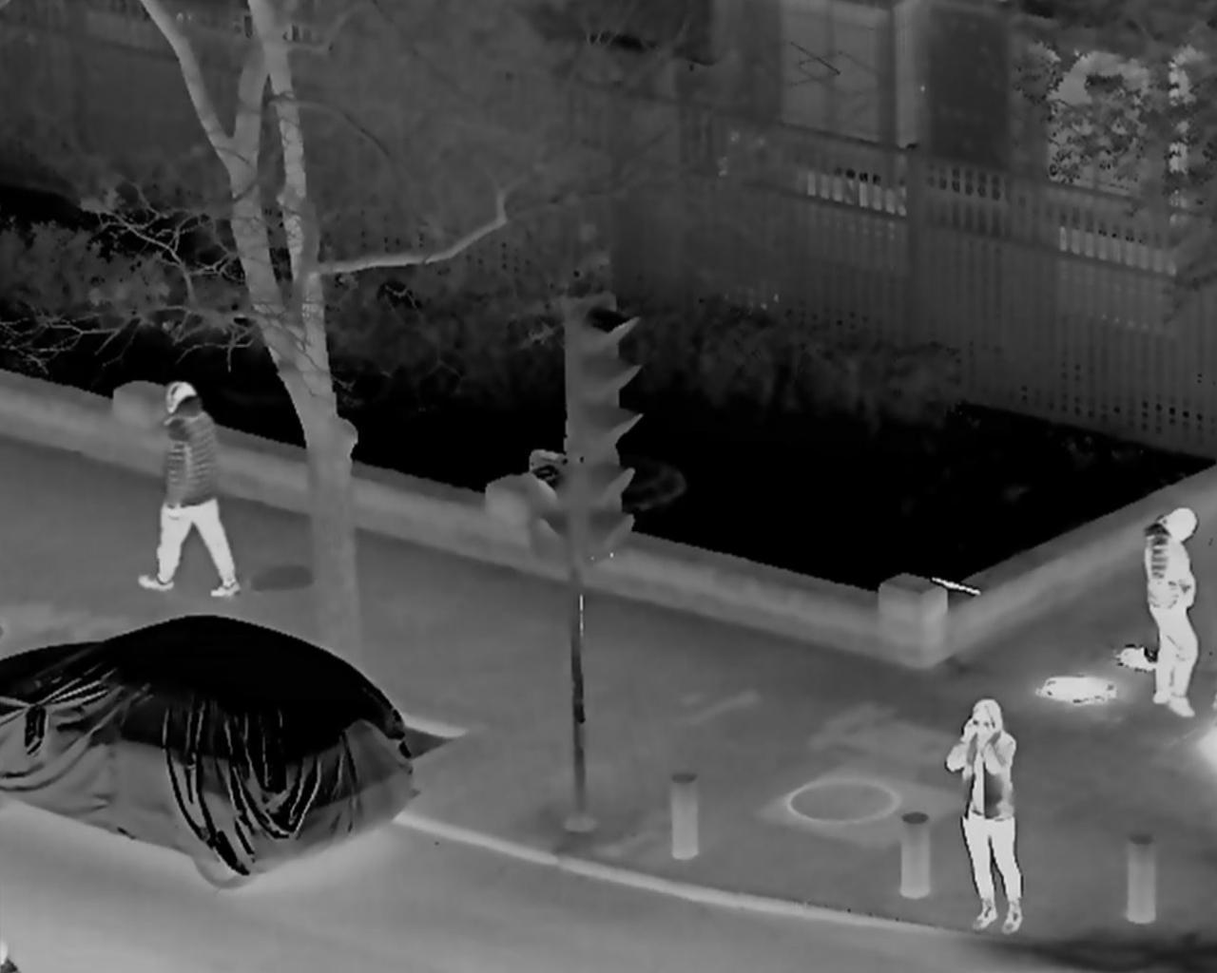person: (140, 378, 244, 601), (943, 696, 1028, 937), (1145, 508, 1207, 720)
